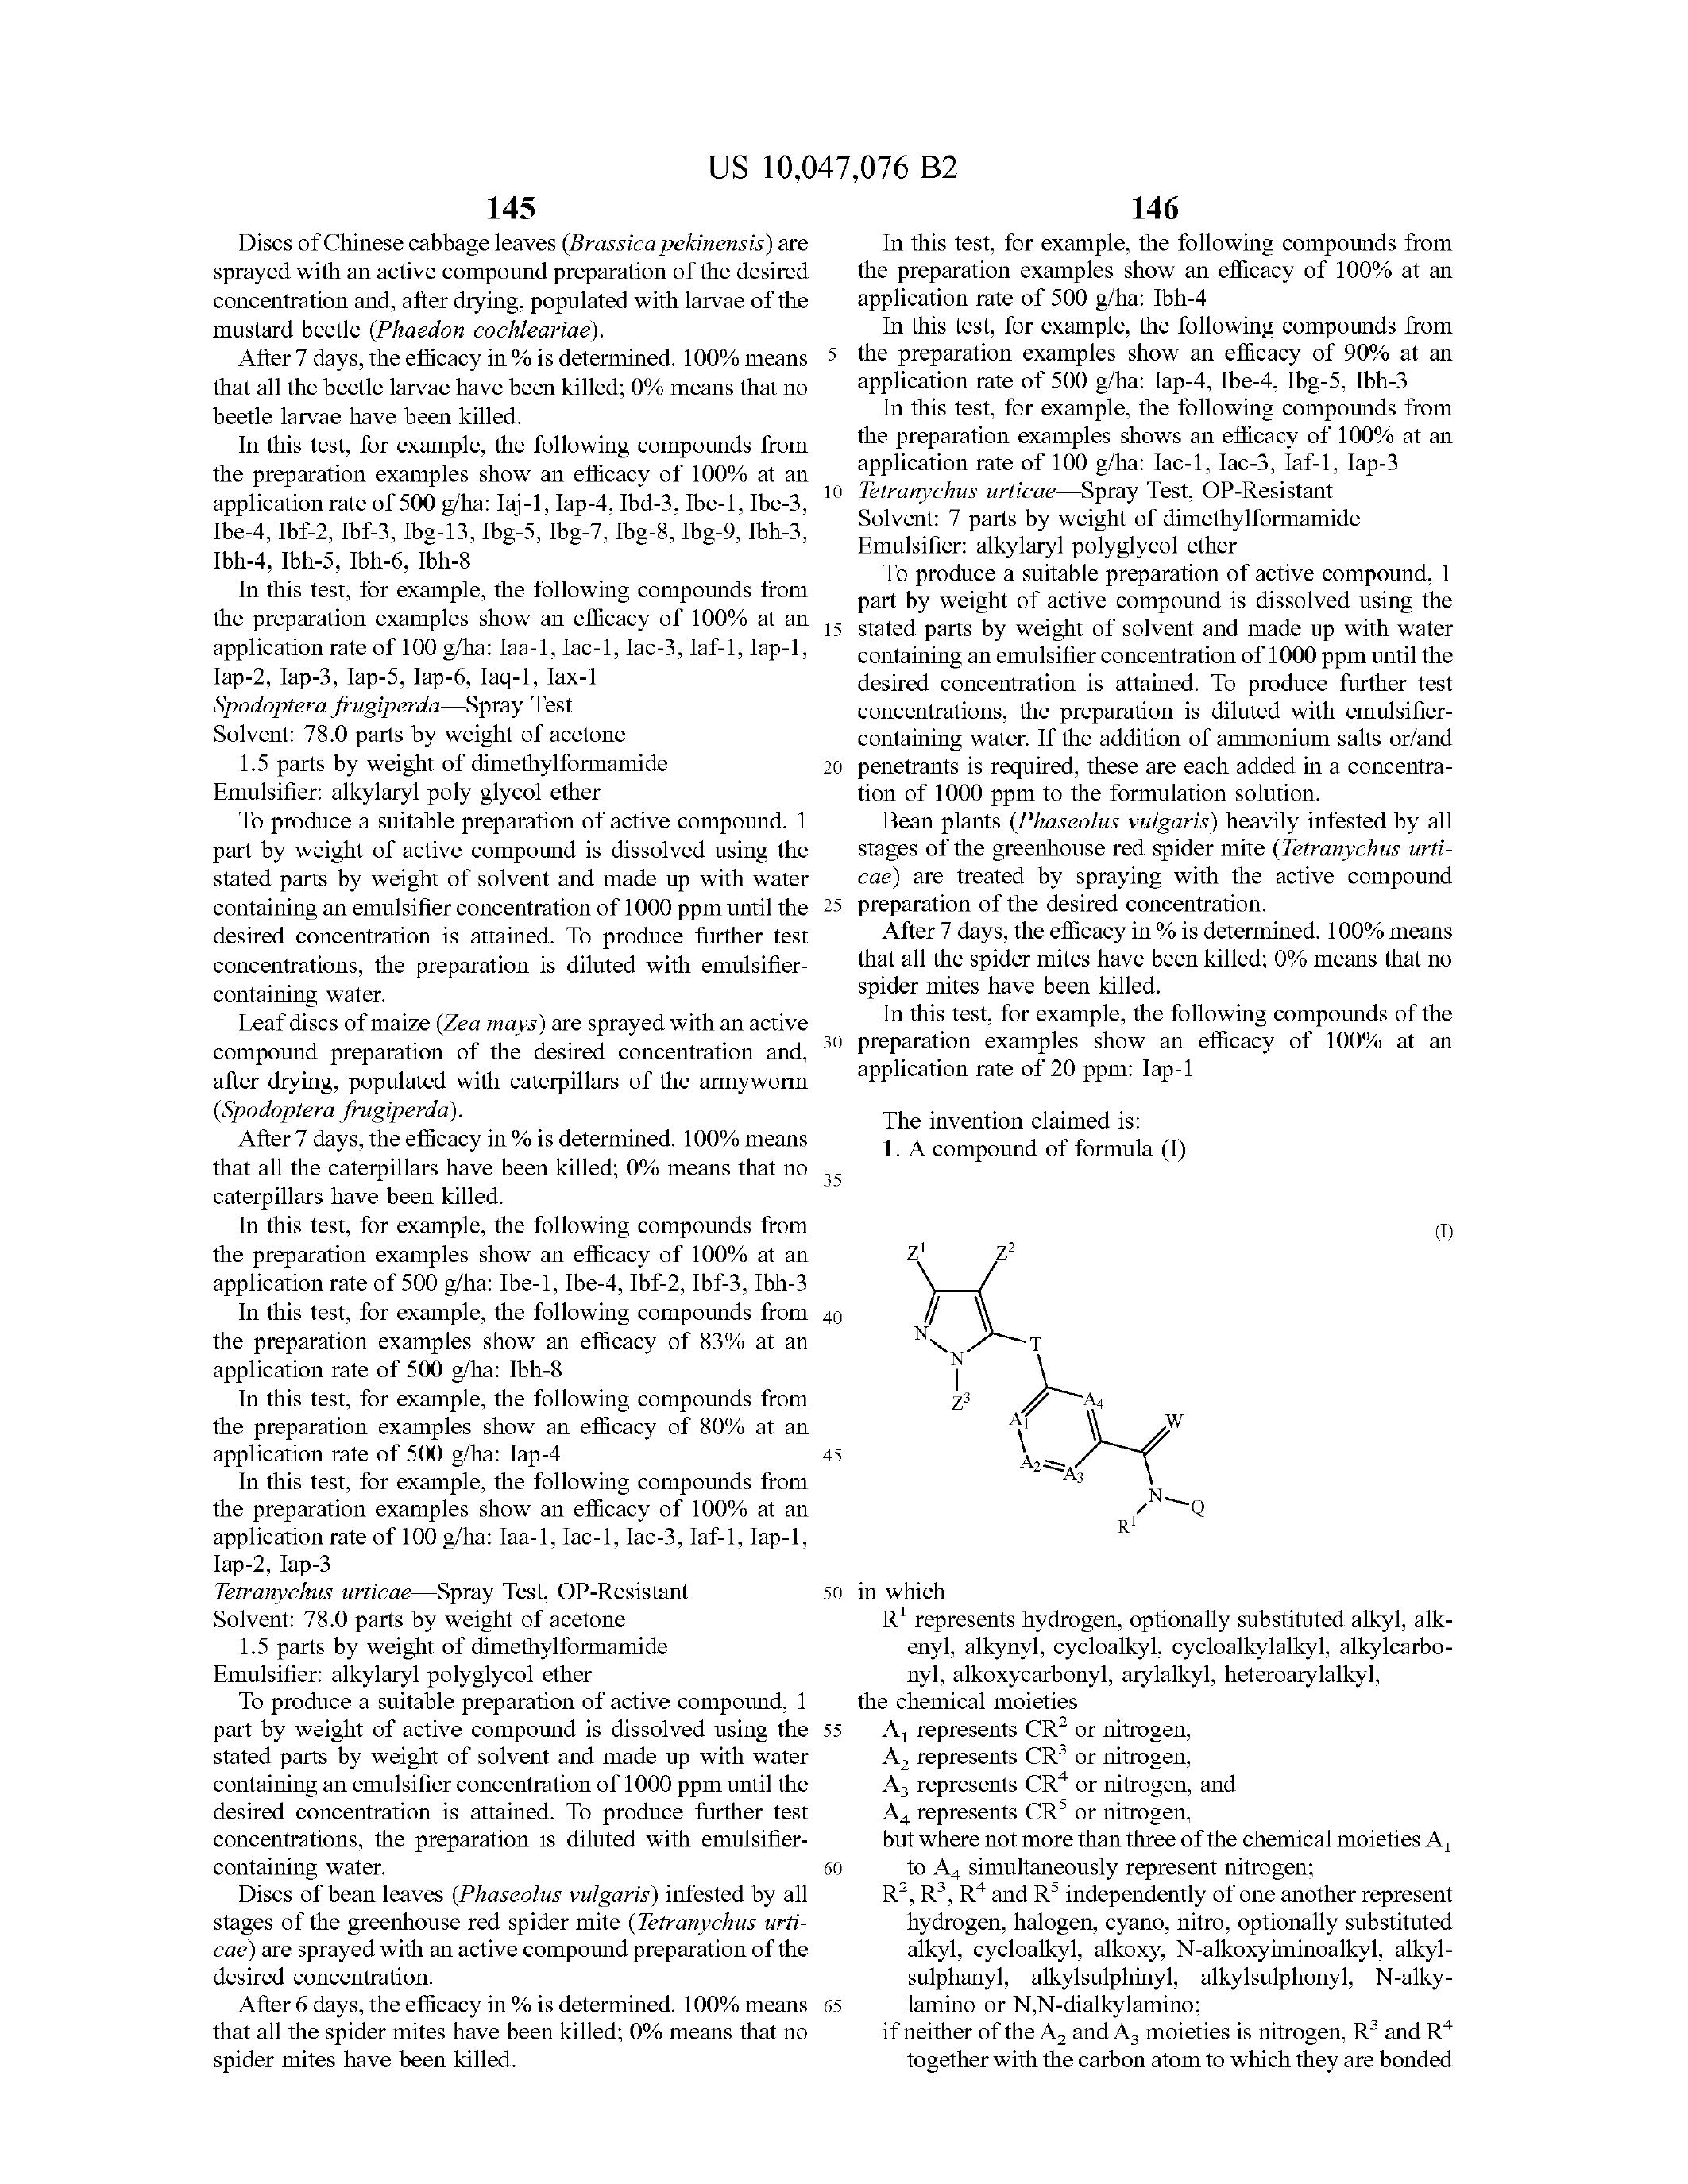markush-structures: (871, 1213, 1264, 1549)
